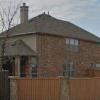Chimney: (16, 1, 32, 27)
